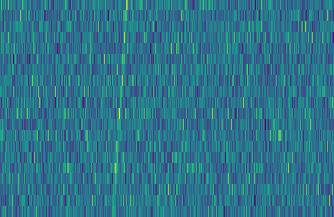signal: (107, 0, 130, 217)
